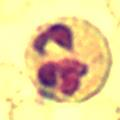neutrophil: (23, 15, 113, 99)
